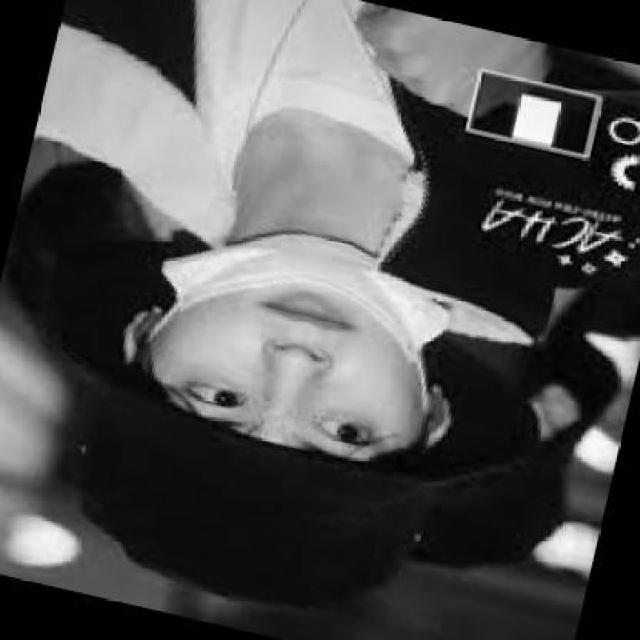earphone: (116, 280, 181, 371), (416, 364, 462, 434)
